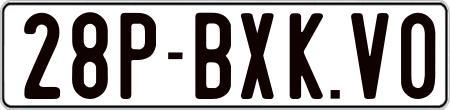0: (399, 11, 434, 98)
2: (24, 10, 62, 96)
8: (71, 11, 110, 103)
B: (193, 12, 230, 103)
K: (287, 13, 322, 102)
P: (119, 10, 158, 100)
V: (350, 10, 389, 96)
X: (238, 11, 271, 97)
